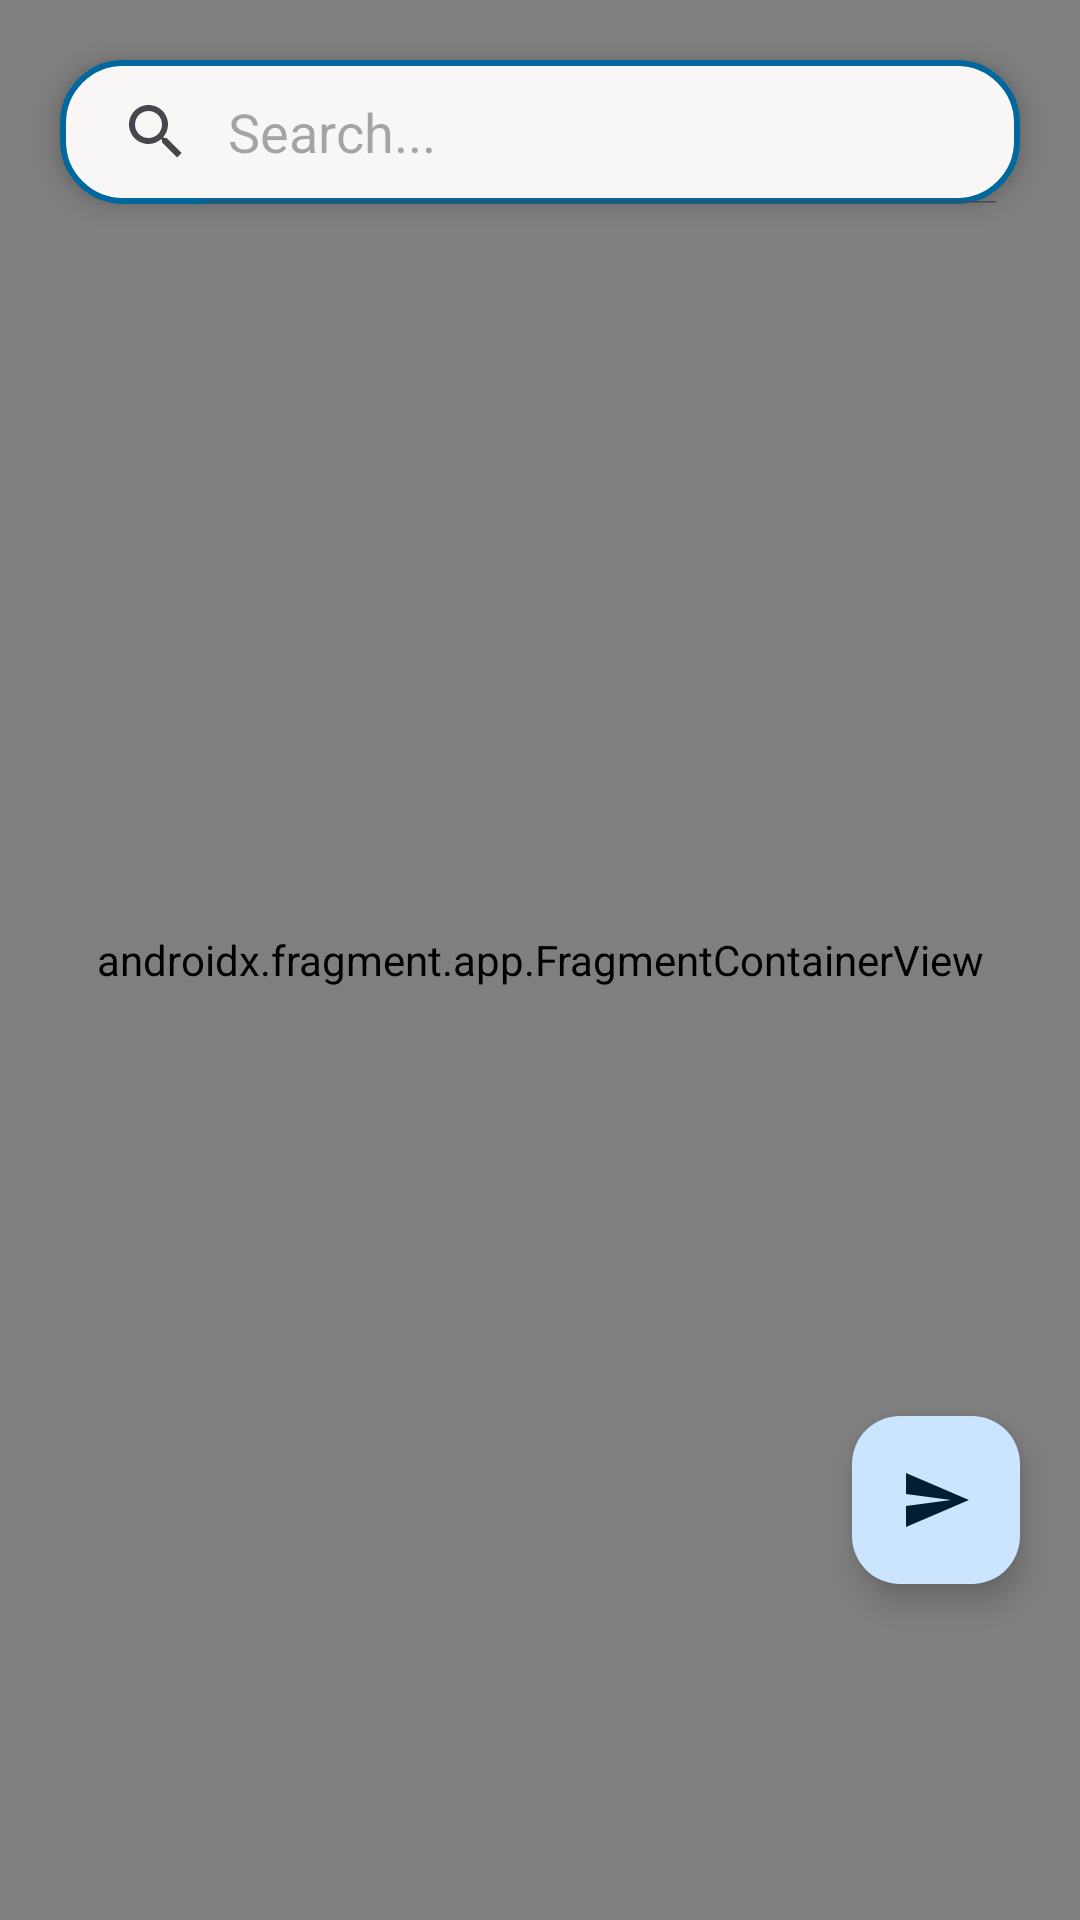

Icons on this 1080 × 1920 Android screen, each with its box as box=[x1, y1, x2, y2]:
Send Location: box=[852, 1416, 1020, 1584]
